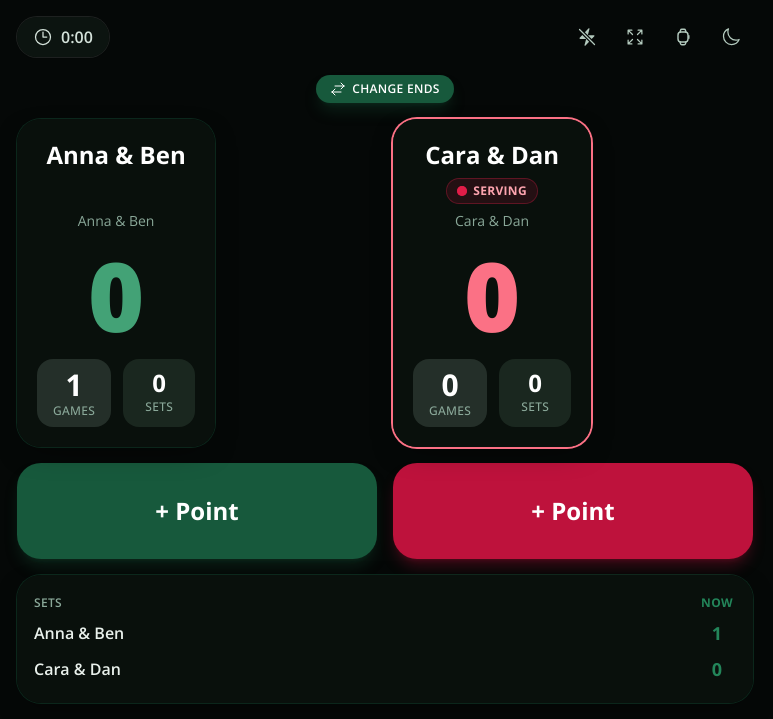
Test: MatchScreen on a phone › asks for a change of ends after the first game
Click the button "Change ends".
click(385, 89)  # box left=316, top=75, right=454, bottom=103
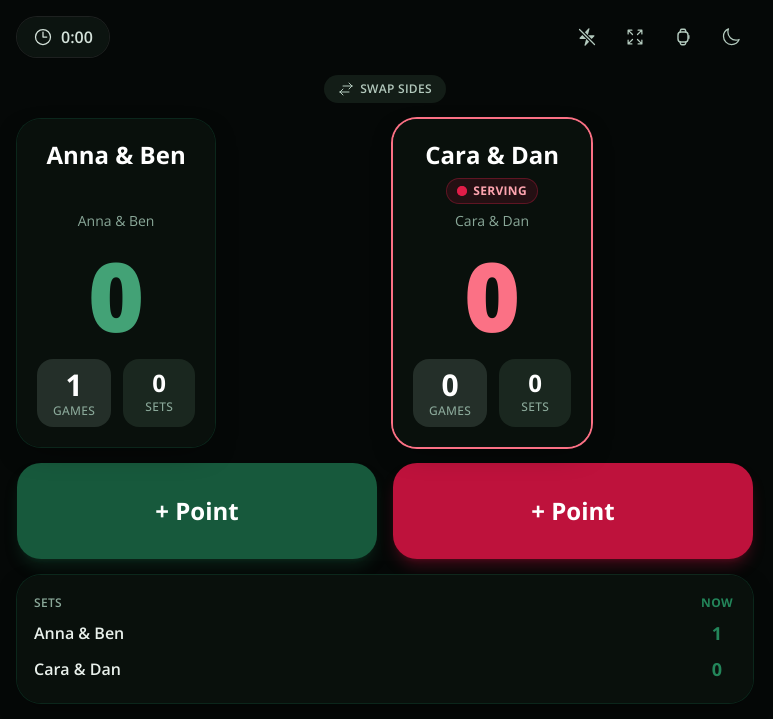
Now the button "Change ends" is gone
Now the button "Swap sides" is shown, box left=324, top=75, right=446, bottom=103
